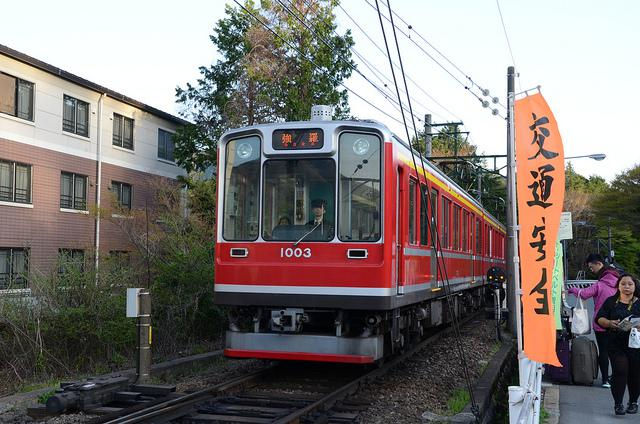Train: (208, 103, 506, 365)
